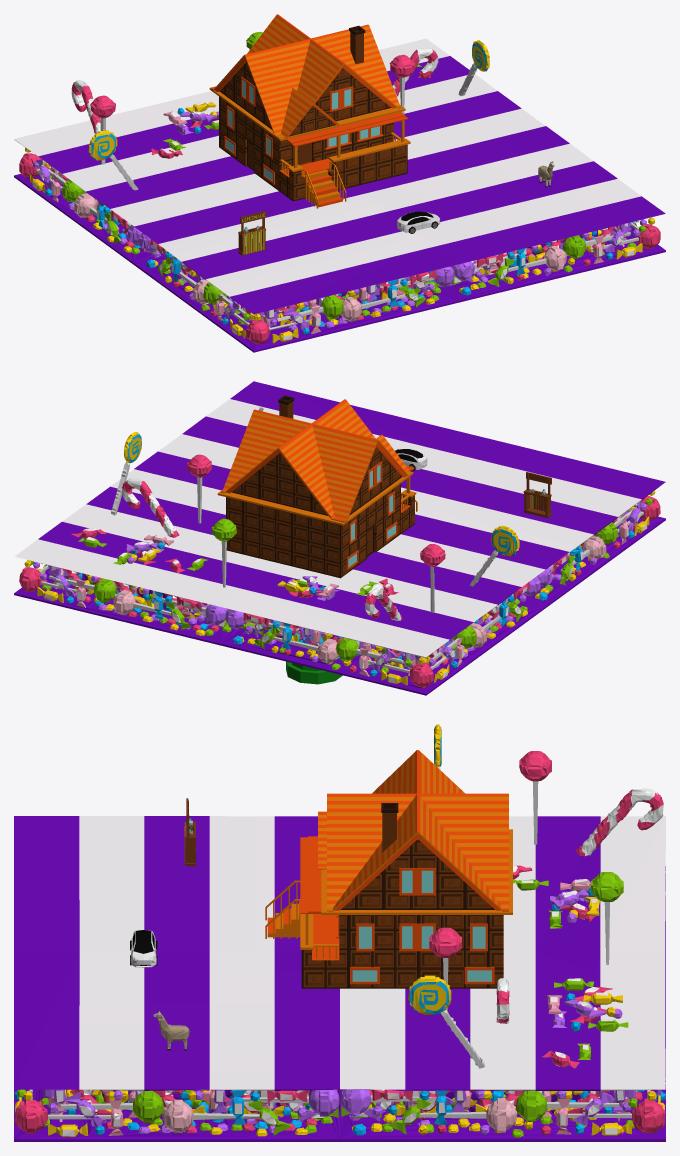
3 views of the same model, one above another, from view 1: azimuth 30°, elevation 25°; view 2: azimuth 150°, elevation 25°; view 3: azimuth 270°, elevation 25° (orthographic). The views are drawn at different scales.
Visible parts, largest first — view 1: TERRAIN_CANDY, Cube, OBJRANDOM_LEMONADE_STAND, VEHICLES_TESLA; view 2: TERRAIN_CANDY, Cube, OBJRANDOM_LEMONADE_STAND, UNDERGROUND_PIPES, VEHICLES_TESLA; view 3: TERRAIN_CANDY, Cube, VEHICLES_TESLA, ANIMAL_LLAMA, OBJRANDOM_LEMONADE_STAND.
Part boxes in pixels (x1,y1,x2,y2): TERRAIN_CANDY: (14, 31, 665, 352); Cube: (209, 14, 410, 208); OBJRANDOM_LEMONADE_STAND: (238, 211, 266, 255); VEHICLES_TESLA: (397, 211, 440, 233); TERRAIN_CANDY: (14, 381, 665, 695); Cube: (217, 395, 417, 578); OBJRANDOM_LEMONADE_STAND: (523, 472, 551, 518); UNDERGROUND_PIPES: (286, 661, 342, 684); VEHICLES_TESLA: (394, 449, 427, 471); TERRAIN_CANDY: (14, 724, 665, 1141); Cube: (265, 750, 512, 988); VEHICLES_TESLA: (130, 930, 157, 967); ANIMAL_LLAMA: (153, 1011, 190, 1050); OBJRANDOM_LEMONADE_STAND: (184, 798, 195, 866).
Size of the model in its own units: 4059 by 2168 by 4000.
Materials: 27 (3 with a texture image).
